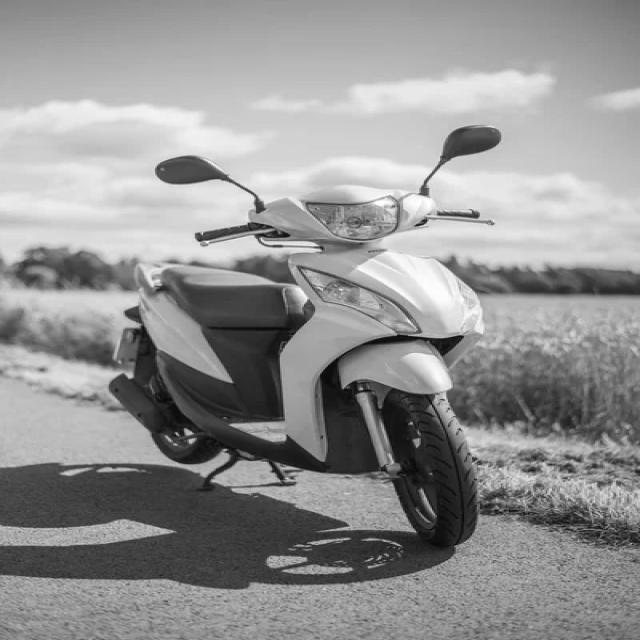Motorcycle: (109, 155, 493, 548)
